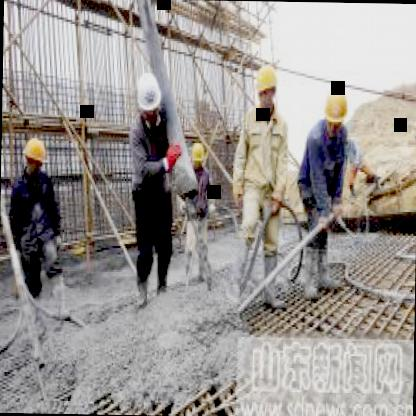helmet: (319, 84, 350, 132), (254, 62, 280, 116), (20, 136, 48, 180), (136, 70, 160, 118), (187, 138, 205, 174)
